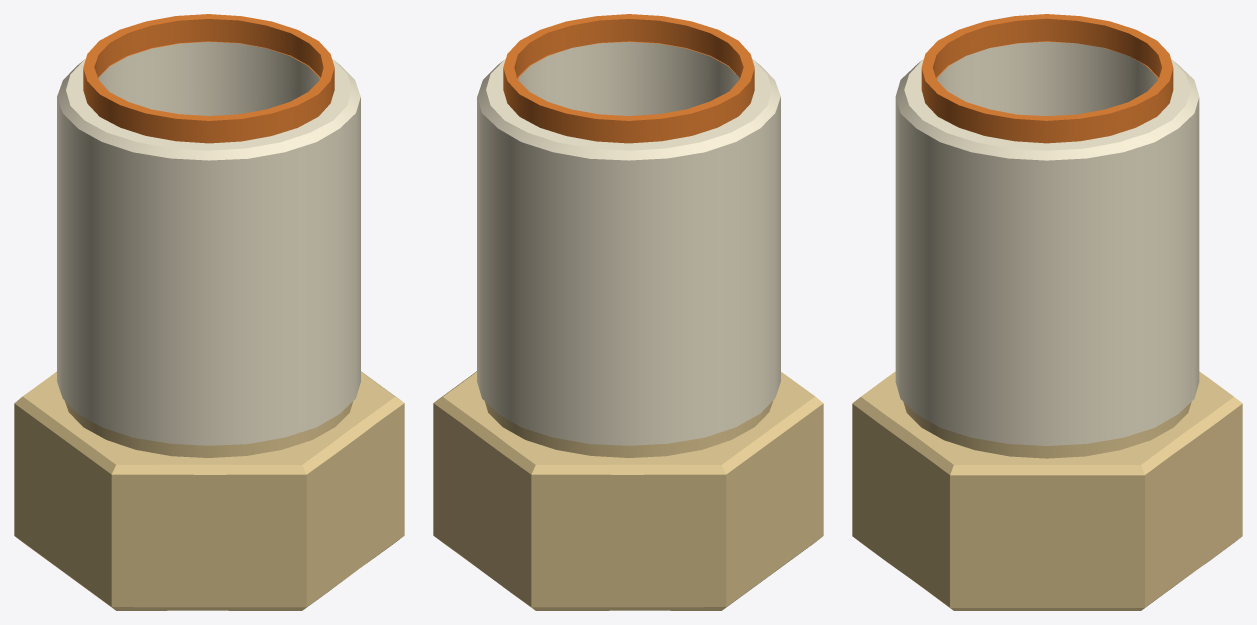
File: pipes_supply__water_heater__af26b772.glb
3 renders of one model, left to right at view 1: azimuth 30°, elevation 25°; view 2: azimuth 150°, elevation 25°; view 3: azimuth 270°, elevation 25°, orthographic.
Visible parts, largest first — view 1: fit_fip_wh_hot; view 2: fit_fip_wh_hot; view 3: fit_fip_wh_hot.
Part boxes in pixels (box(x1,y1,x2,y2)): fit_fip_wh_hot: box(14, 14, 404, 610); fit_fip_wh_hot: box(433, 14, 823, 610); fit_fip_wh_hot: box(852, 14, 1242, 610).
Size of the model in its own units: 0.0333 by 0.0516 by 0.0385.
